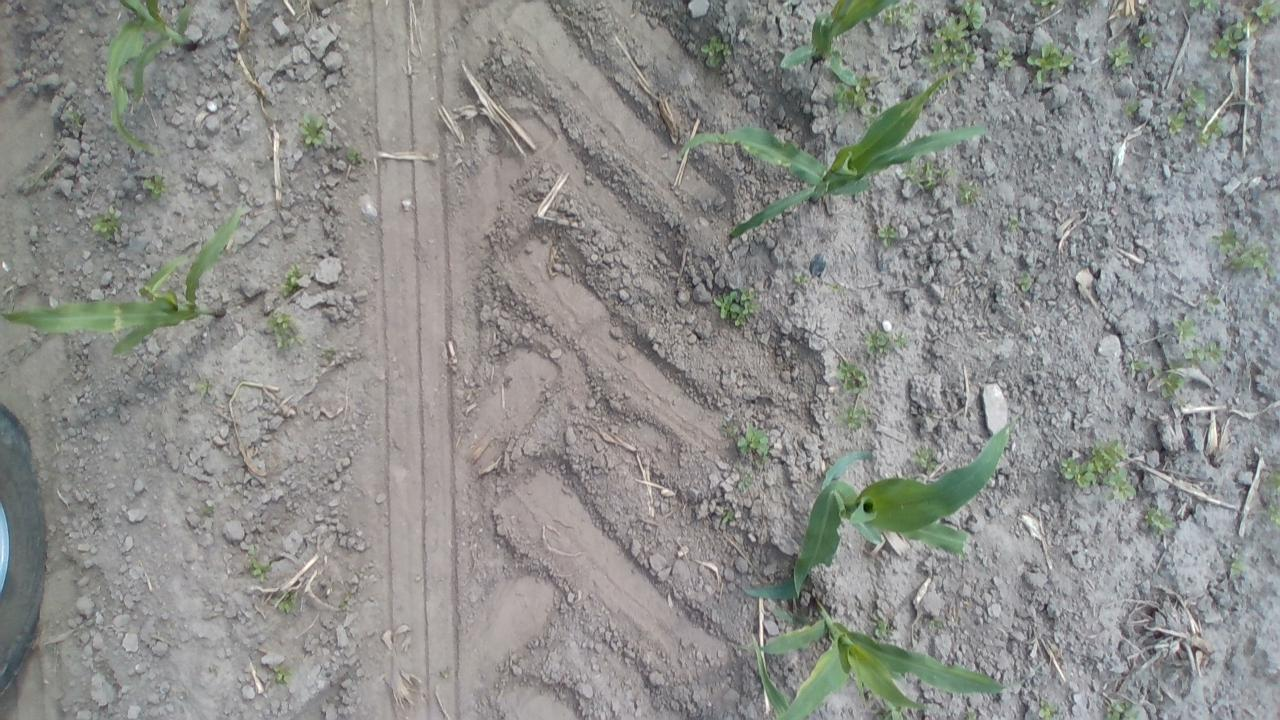Maize: (669, 74, 994, 248), (744, 415, 1022, 600), (0, 197, 258, 360), (739, 597, 1014, 720), (100, 2, 204, 166), (765, 0, 911, 86)
Weeds: (1058, 436, 1142, 505), (924, 0, 990, 80), (1212, 220, 1276, 275), (1128, 357, 1188, 402), (1174, 321, 1226, 365), (708, 286, 760, 330), (1026, 42, 1079, 82), (1208, 20, 1254, 64), (730, 424, 771, 470), (260, 312, 306, 352), (900, 158, 954, 188), (830, 72, 875, 108), (862, 327, 916, 356), (834, 358, 872, 396), (90, 206, 128, 243), (878, 0, 924, 30), (1192, 109, 1225, 147), (276, 262, 305, 302), (300, 110, 324, 158), (698, 36, 734, 68), (834, 402, 872, 431), (1102, 41, 1132, 77), (992, 44, 1021, 78), (316, 340, 346, 372), (244, 547, 274, 579), (731, 472, 764, 501), (1100, 698, 1141, 720), (866, 617, 897, 645), (142, 166, 166, 202), (911, 445, 942, 472), (1142, 508, 1174, 534), (1030, 0, 1098, 12), (1265, 470, 1280, 524), (60, 107, 92, 132), (1248, 1, 1280, 26), (1131, 26, 1160, 52), (876, 221, 900, 250), (1201, 292, 1229, 316), (267, 665, 293, 690), (1035, 698, 1064, 720), (1182, 86, 1208, 109), (955, 182, 979, 206), (340, 142, 366, 164), (1226, 553, 1248, 578), (1164, 112, 1188, 134), (1182, 0, 1223, 12), (790, 267, 813, 288), (922, 614, 946, 634), (1014, 269, 1036, 290), (194, 381, 214, 404), (270, 593, 294, 612), (1000, 214, 1021, 235), (720, 506, 737, 528), (959, 708, 988, 720), (1118, 95, 1132, 115), (828, 278, 842, 294)
